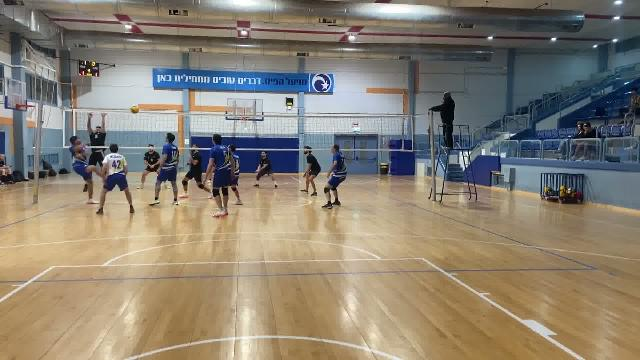ball: (129, 105, 140, 117)
